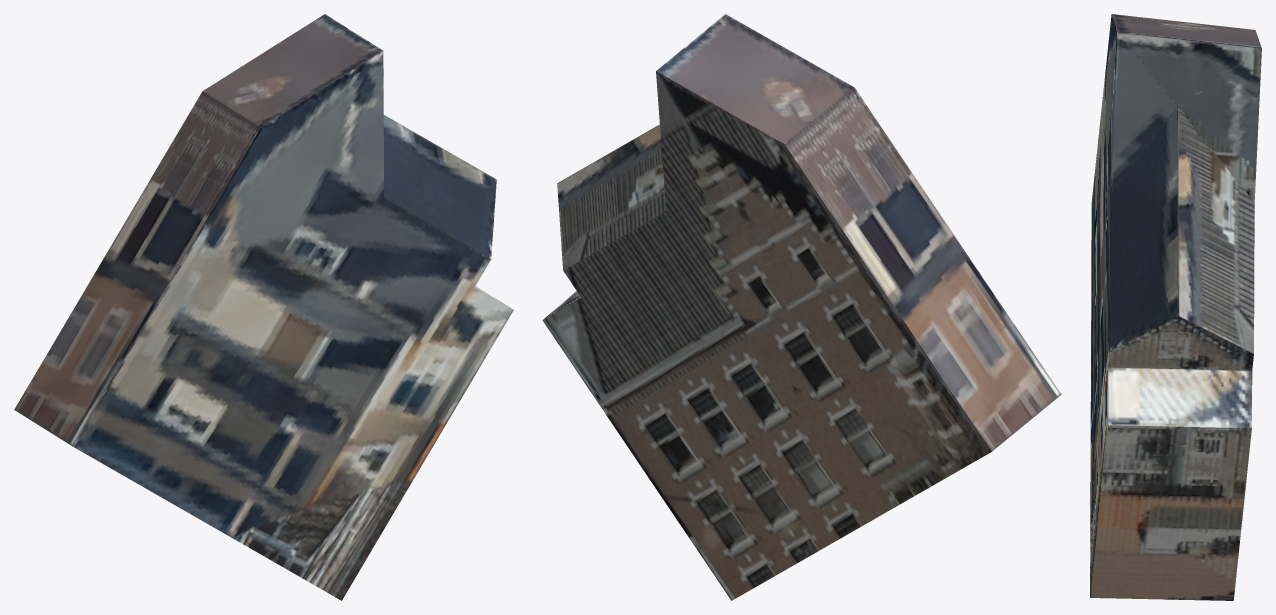
The picture shows the model from 3 angles, left to right: view 1: azimuth 30°, elevation 25°; view 2: azimuth 150°, elevation 25°; view 3: azimuth 270°, elevation 25°; orthographic projection. The views are drawn at different scales.
Parts seen in each view (by area): view 1: BAG_0599100000671721 (×3); view 2: BAG_0599100000671721 (×3); view 3: BAG_0599100000671721 (×5).
Boxes of the visible parts, x1=… form: BAG_0599100000671721 (×3): x1=14, y1=14, x2=513, y2=600; BAG_0599100000671721 (×3): x1=542, y1=14, x2=1061, y2=600; BAG_0599100000671721 (×5): x1=1090, y1=14, x2=1261, y2=600.
Size of the model in its own units: 19.77 by 21.72 by 5.64.
Materials: 1 (1 with a texture image).
